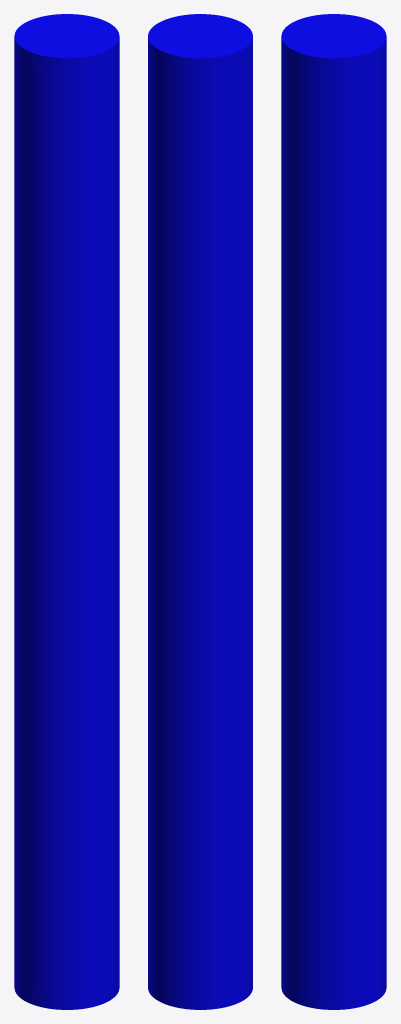
File: rod.obj
3 renders of one model, left to right at view 1: azimuth 90°, elevation 25°; view 2: azimuth 150°, elevation 25°; view 3: azimuth 270°, elevation 25°, orthographic.
Parts seen in each view (by area): view 1: Cylinder; view 2: Cylinder; view 3: Cylinder.
Part boxes in pixels (bbox=[...]): Cylinder: bbox=[14, 14, 119, 1009]; Cylinder: bbox=[148, 14, 252, 1009]; Cylinder: bbox=[281, 14, 386, 1009].
Bounding box in the file's own units: 0.0998 × 1 × 0.1.
Materials: 1 (1 with a texture image).
